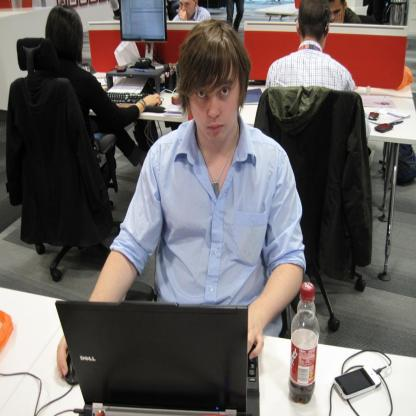board: (55, 301, 261, 416), (289, 281, 318, 404)
